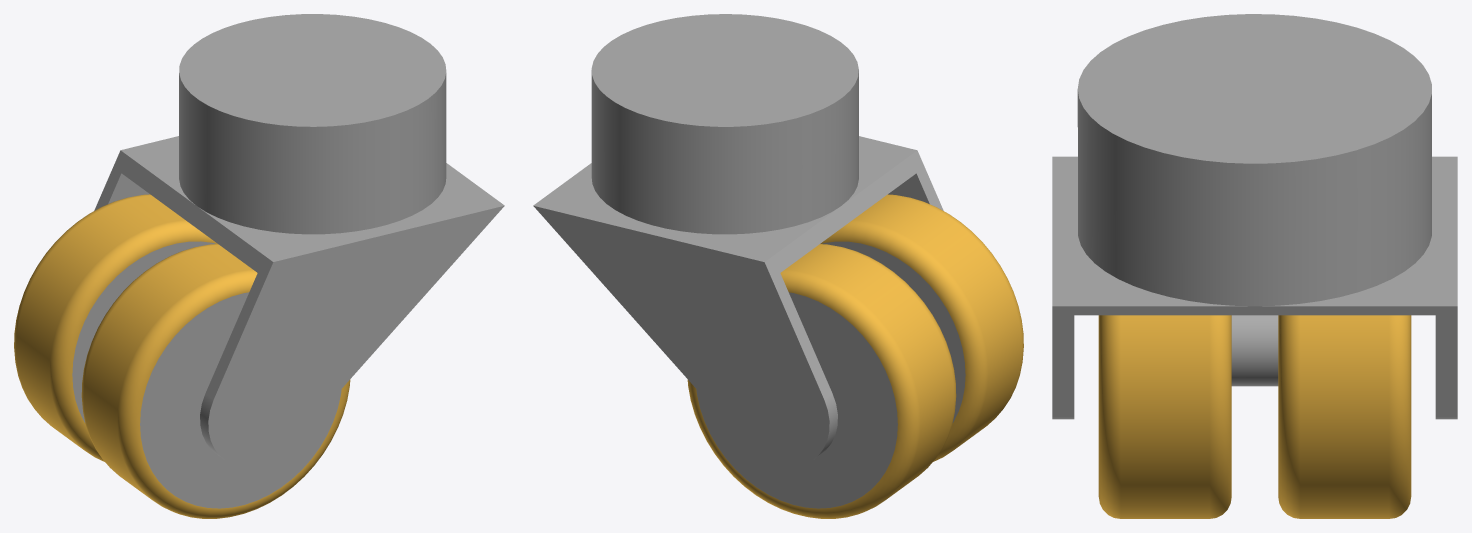
File: simple_caster.dae
3 renders of one model, left to right at view 1: azimuth 30°, elevation 25°; view 2: azimuth 150°, elevation 25°; view 3: azimuth 270°, elevation 25°, orthographic. The views are drawn at different scales.
Parts seen in each view (by area): view 1: ROX Simple Lenkrolle; view 2: ROX Simple Lenkrolle; view 3: ROX Simple Lenkrolle.
Part boxes in pixels (<box>): ROX Simple Lenkrolle: <box>14,14,504,518</box>; ROX Simple Lenkrolle: <box>533,14,1023,518</box>; ROX Simple Lenkrolle: <box>1052,14,1457,518</box>.
Size of the model in its own units: 1.25 by 0.915 by 1.24.
